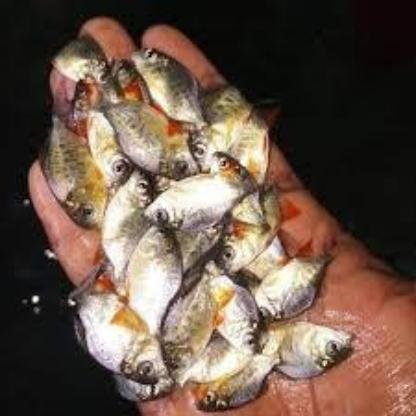ikan-pacu: (68, 288, 164, 386), (214, 186, 286, 272), (146, 167, 250, 224), (109, 103, 187, 171), (206, 272, 266, 354), (268, 320, 350, 374)
